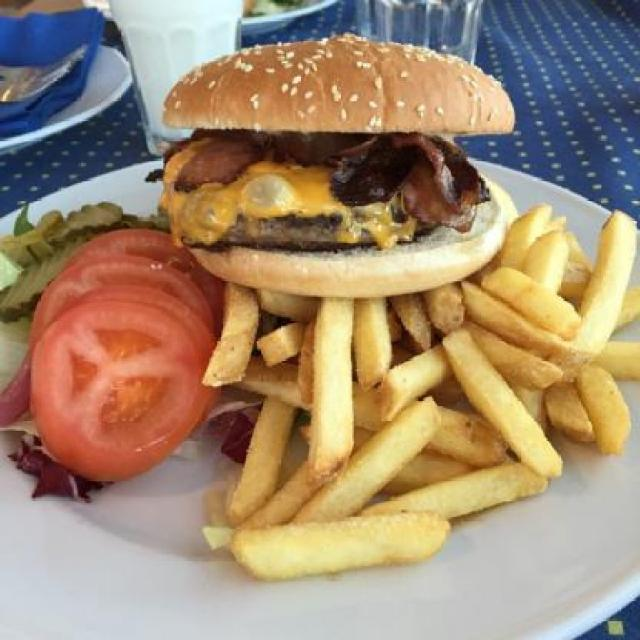Hamburger: (144, 34, 513, 298)
